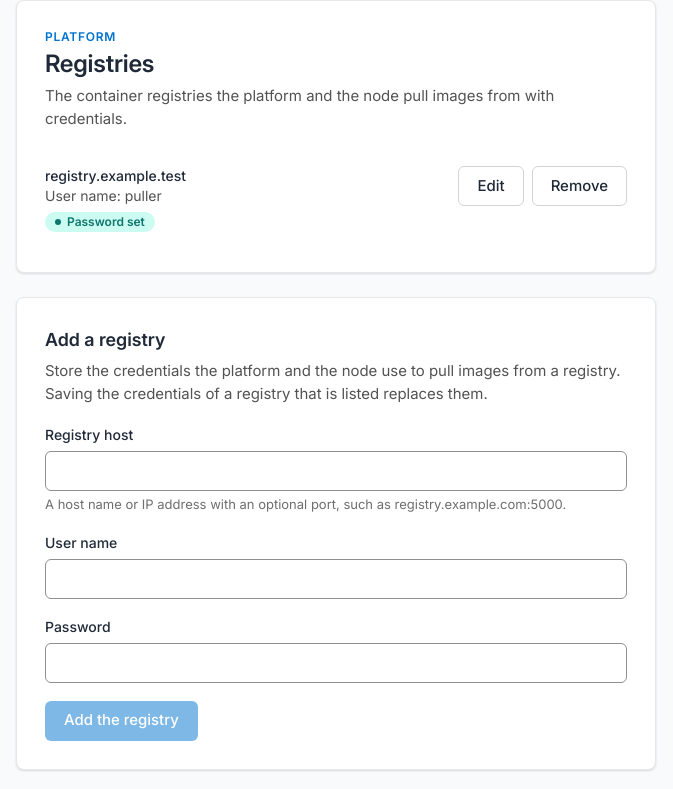
RegistriesPage › cancels an edit
Click the button "Edit".
click(491, 186)  # box left=458, top=166, right=524, bottom=206
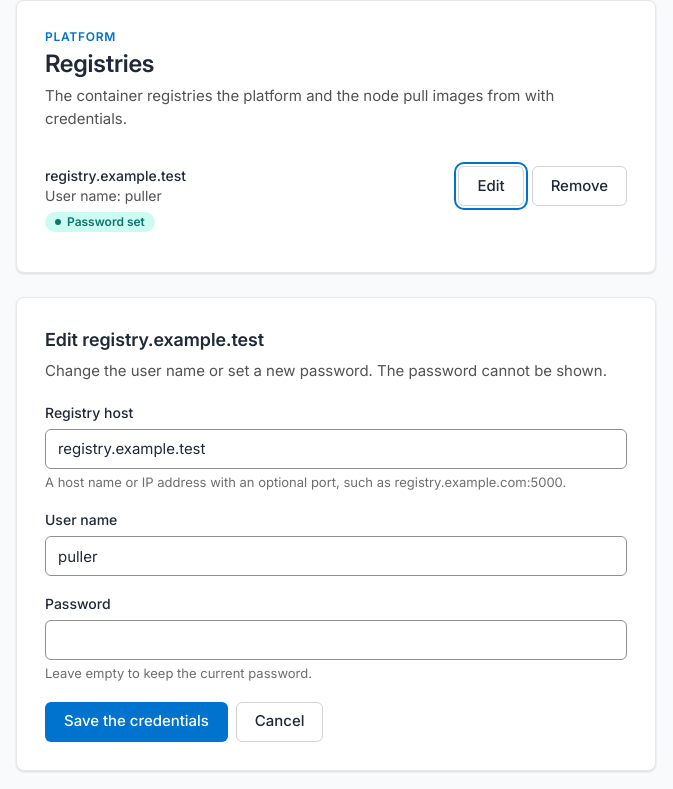
Click the button "Cancel".
click(280, 722)  # box left=236, top=702, right=323, bottom=742
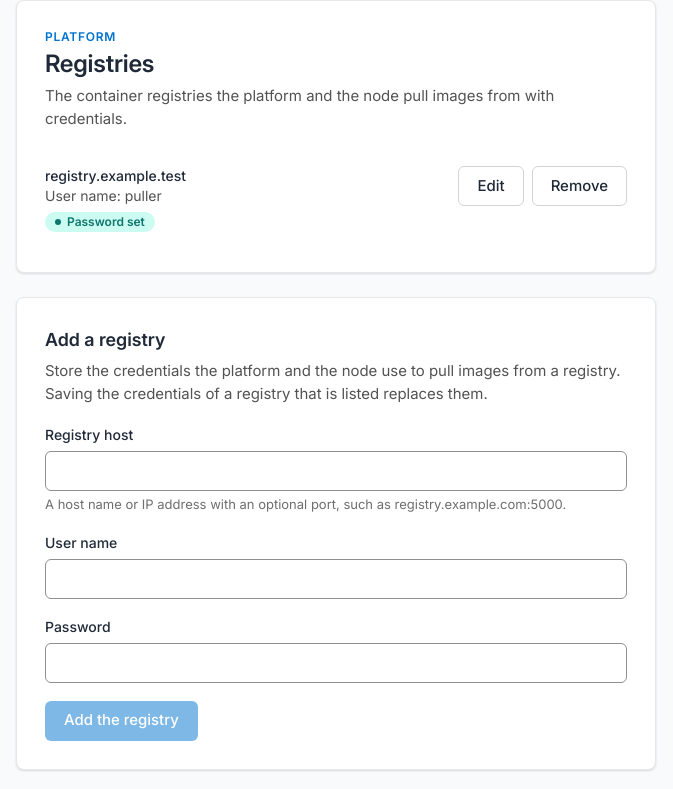
Now the heading "Add a registry" is shown, box left=45, top=329, right=166, bottom=350
